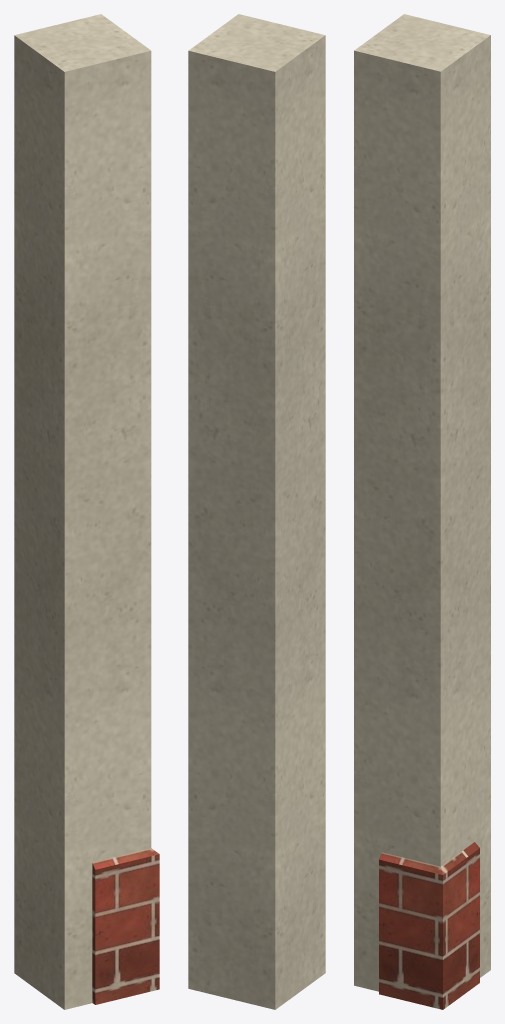
Rendered from corner_g.glb.
3 views of the same model, side by side, from view 1: azimuth 30°, elevation 25°; view 2: azimuth 150°, elevation 25°; view 3: azimuth 330°, elevation 25° (orthographic).
Parts seen in each view (by area): view 1: corner_g_render, corner_g_brick; view 2: corner_g_render; view 3: corner_g_render, corner_g_brick.
Part boxes in pixels (x1=…): corner_g_render: x1=14, y1=14, x2=151, y2=1009; corner_g_brick: x1=92, y1=848, x2=159, y2=1004; corner_g_render: x1=188, y1=14, x2=325, y2=1009; corner_g_render: x1=354, y1=14, x2=490, y2=991; corner_g_brick: x1=379, y1=842, x2=479, y2=1009.
Size of the model in its own units: 0.318 by 3.09 by 0.318.
Materials: 2 (2 with a texture image).
